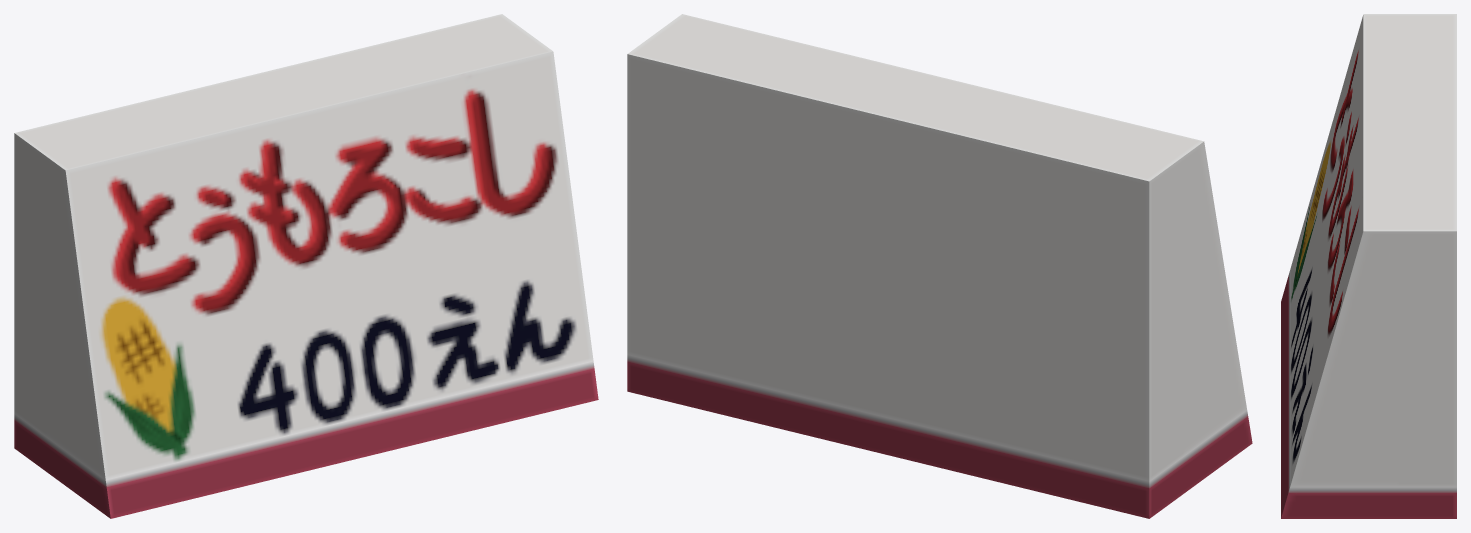
File: jsf_Light_BakedCorn_01.fbx
3 renders of one model, left to right at view 1: azimuth 30°, elevation 25°; view 2: azimuth 150°, elevation 25°; view 3: azimuth 270°, elevation 25°, orthographic. The views are drawn at different scales.
Visible parts, largest first — view 1: jsf_Light_BakedCorn_01; view 2: jsf_Light_BakedCorn_01; view 3: jsf_Light_BakedCorn_01.
Part boxes in pixels (x1=…): jsf_Light_BakedCorn_01: x1=14, y1=14, x2=598, y2=518; jsf_Light_BakedCorn_01: x1=627, y1=14, x2=1252, y2=518; jsf_Light_BakedCorn_01: x1=1281, y1=14, x2=1456, y2=518.
Bounding box in the file's own units: 33.98 × 20.99 × 11.63.
